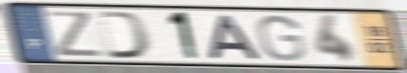1: (164, 10, 201, 63)
4: (313, 12, 359, 67)
A: (205, 13, 265, 61)
D: (95, 9, 154, 61)
G: (254, 13, 308, 63)
Z: (45, 9, 107, 58)
